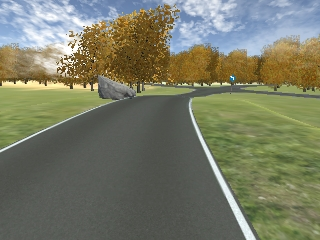left: (229, 77, 235, 81)
